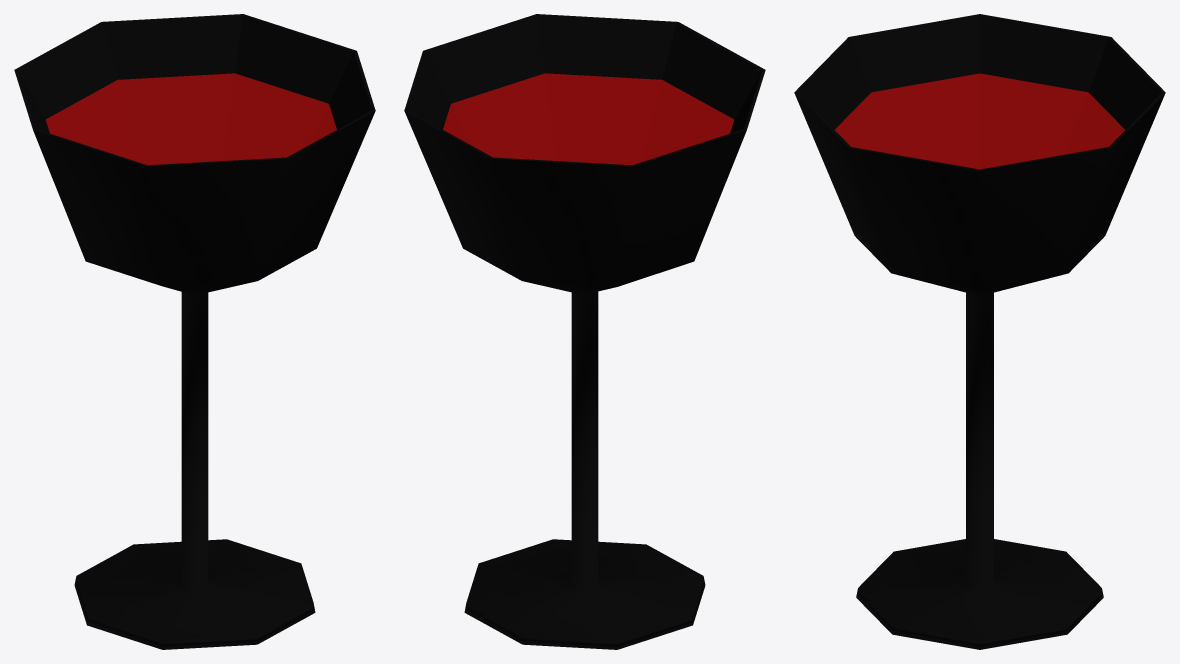
The model's file is Wine_Glass.fbx.
3 views of the same model, side by side, from view 1: azimuth 30°, elevation 25°; view 2: azimuth 150°, elevation 25°; view 3: azimuth 270°, elevation 25° (orthographic).
Parts seen in each view (by area): view 1: revolvedSurface3; view 2: revolvedSurface3; view 3: revolvedSurface3.
Part boxes in pixels (x1,y1,x2,y2): revolvedSurface3: (14, 14, 375, 649); revolvedSurface3: (404, 14, 765, 649); revolvedSurface3: (794, 14, 1165, 649).
Bounding box in the file's own units: 6 × 9 × 6.
